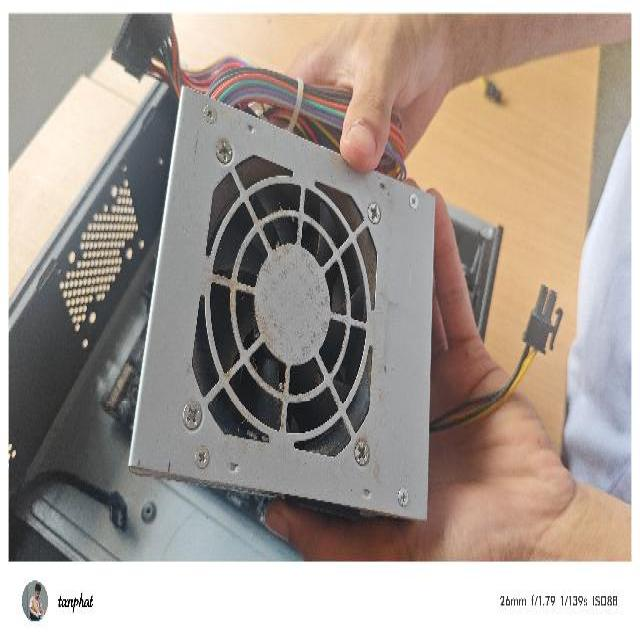PSU: (124, 80, 436, 525)
